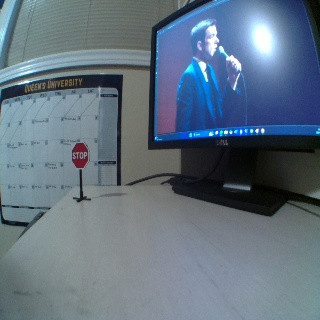sign_stop: (70, 141, 88, 167)
